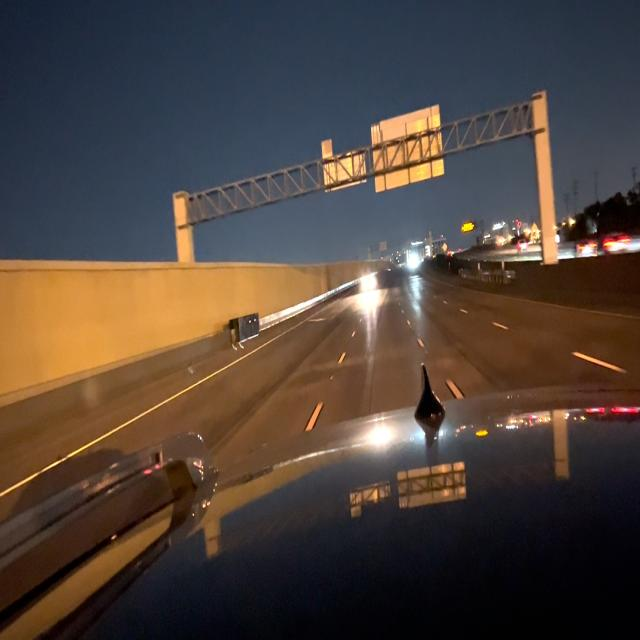back-of-sign: (369, 107, 445, 195), (322, 153, 368, 190), (321, 138, 330, 155)
